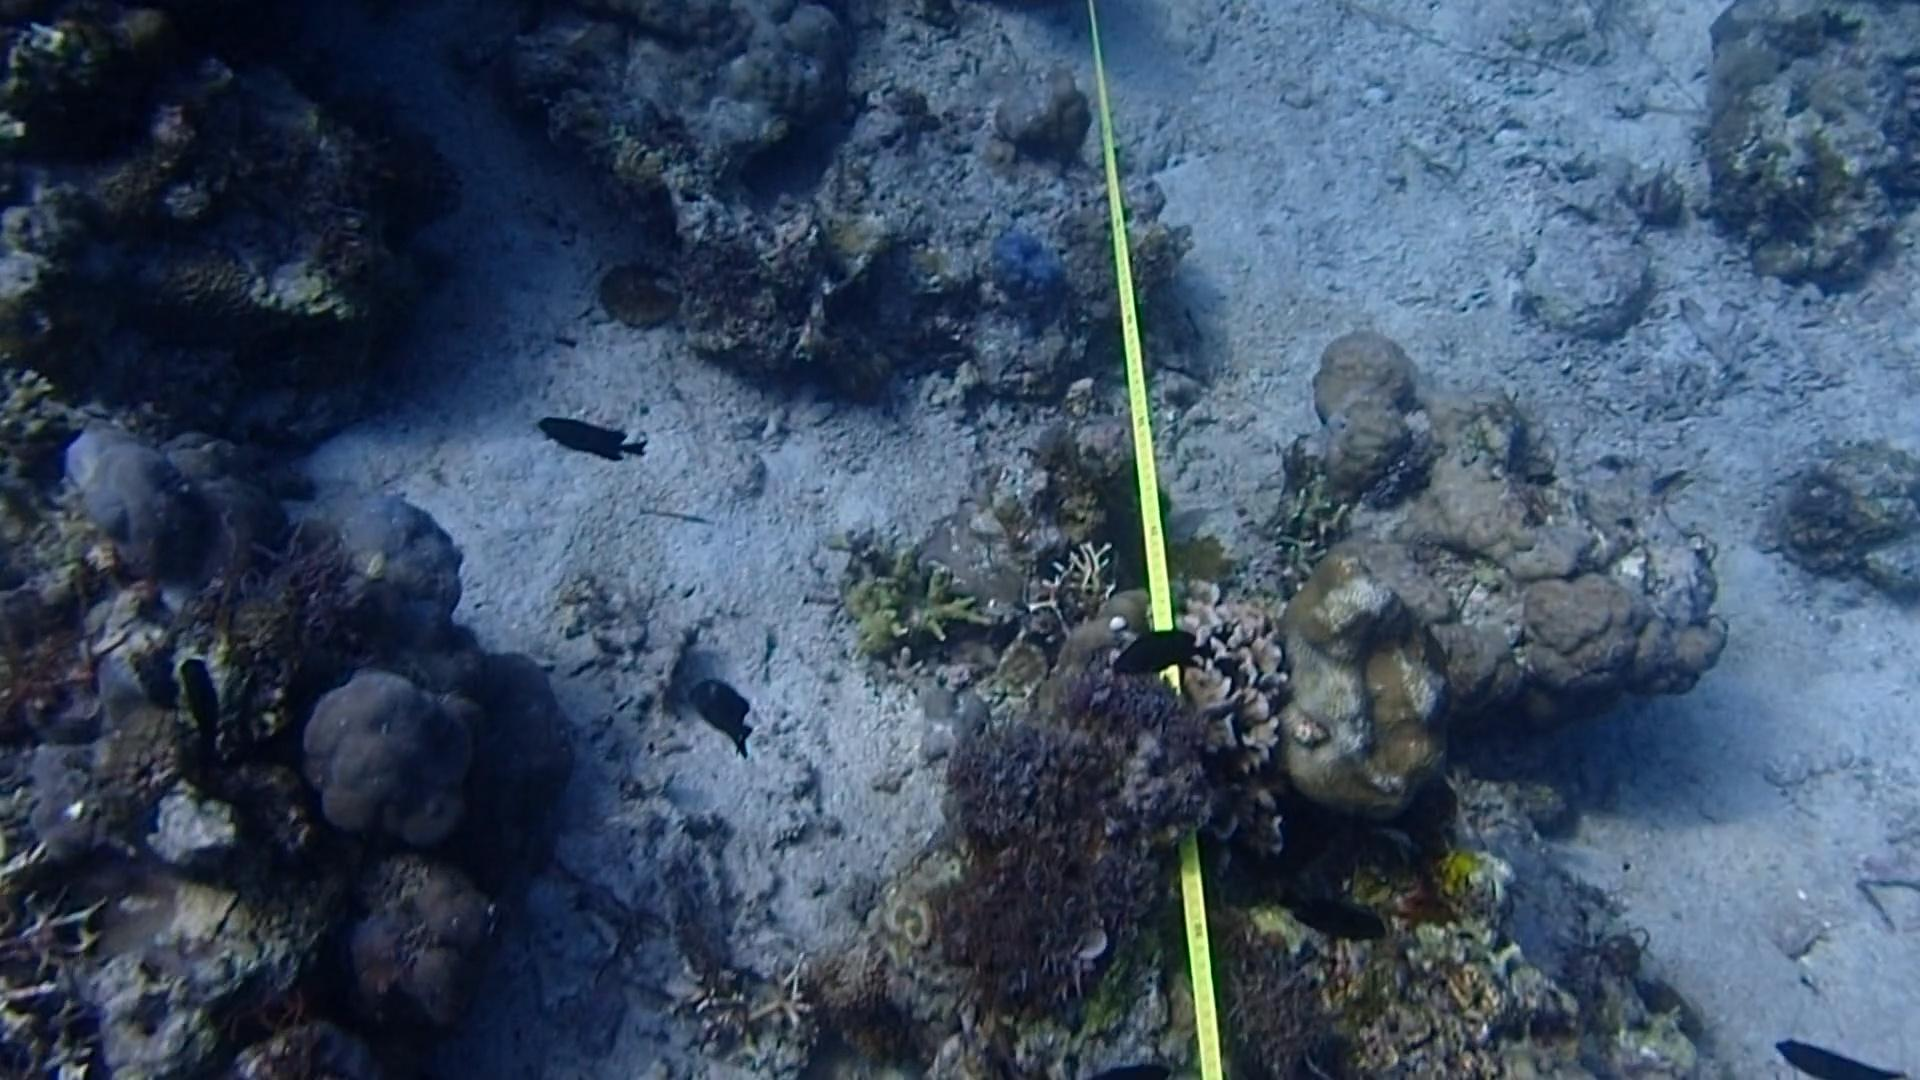Dark Fish: (1270, 878, 1398, 968), (521, 407, 654, 484), (1096, 622, 1220, 699), (161, 655, 245, 761), (673, 678, 774, 764), (1771, 1029, 1900, 1080)
Light Fish: (1638, 158, 1681, 235)
